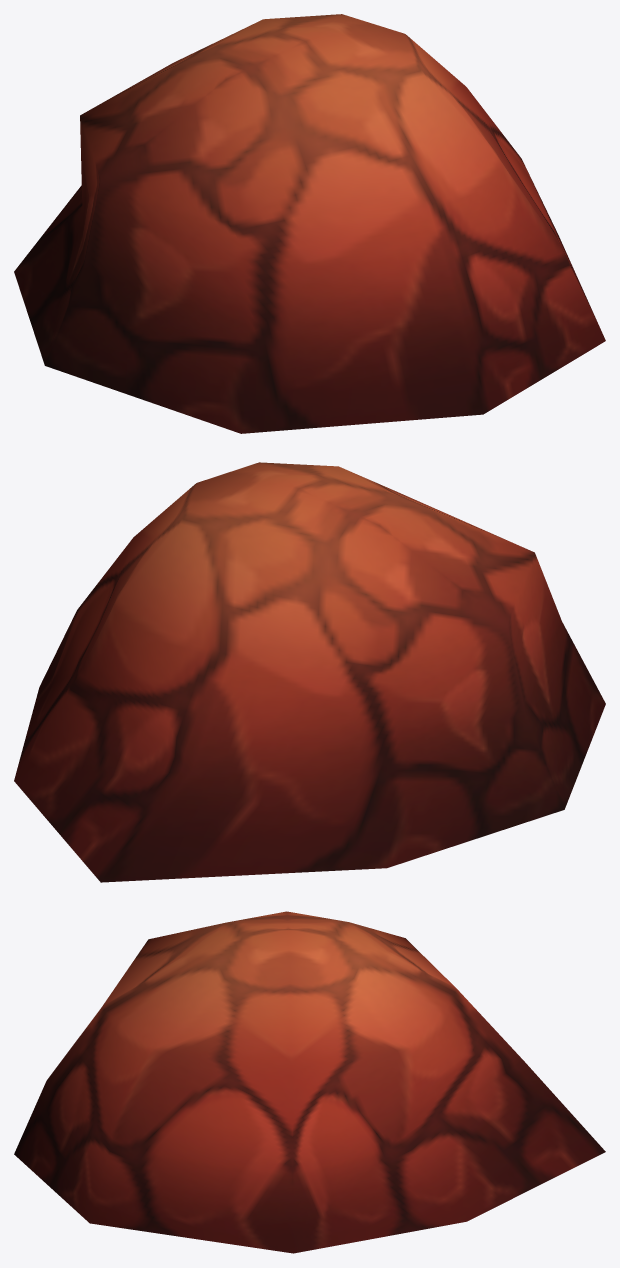
Rendered from Small_Rock_03.FBX.
3 renders of one model, top to bottom at view 1: azimuth 30°, elevation 25°; view 2: azimuth 150°, elevation 25°; view 3: azimuth 270°, elevation 25°, orthographic. The views are drawn at different scales.
Parts seen in each view (by area): view 1: Small_Rock_03; view 2: Small_Rock_03; view 3: Small_Rock_03.
Boxes of the visible parts, x1,y1,x2,y2 form: Small_Rock_03: (14,14,605,433); Small_Rock_03: (14,462,605,882); Small_Rock_03: (14,911,605,1253).
Size of the model in its own units: 53.58 by 25.69 by 62.54.
